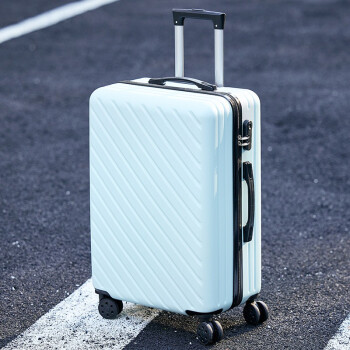box: (90, 76, 263, 316)
handle: (243, 161, 255, 243), (148, 77, 217, 91)
lock: (238, 118, 253, 150)
wheel: (196, 319, 224, 346), (242, 300, 269, 326), (98, 297, 122, 320)
